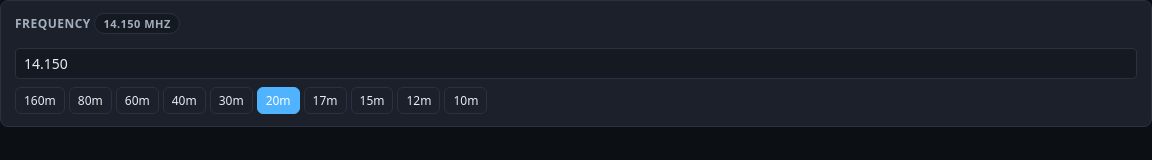
Test case: FrequencyControl › updates local state on change but syncs with store on blur
The image size is (1152, 160).
Replace the text in the number field named "Frequency in MHz" with "14.2" at (576, 64), box top-left (15, 48), bottom-right (1137, 79)
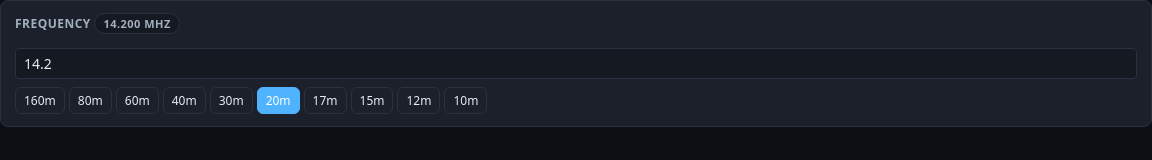
Leave the number field named "Frequency in MHz", box top-left (15, 48), bottom-right (1137, 79)
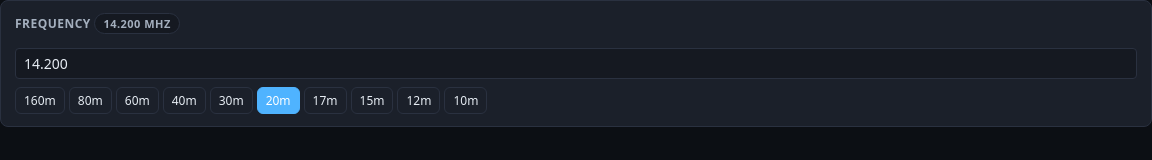
Check: the number field named "Frequency in MHz" holds "14.200", box top-left (15, 48), bottom-right (1137, 79)
